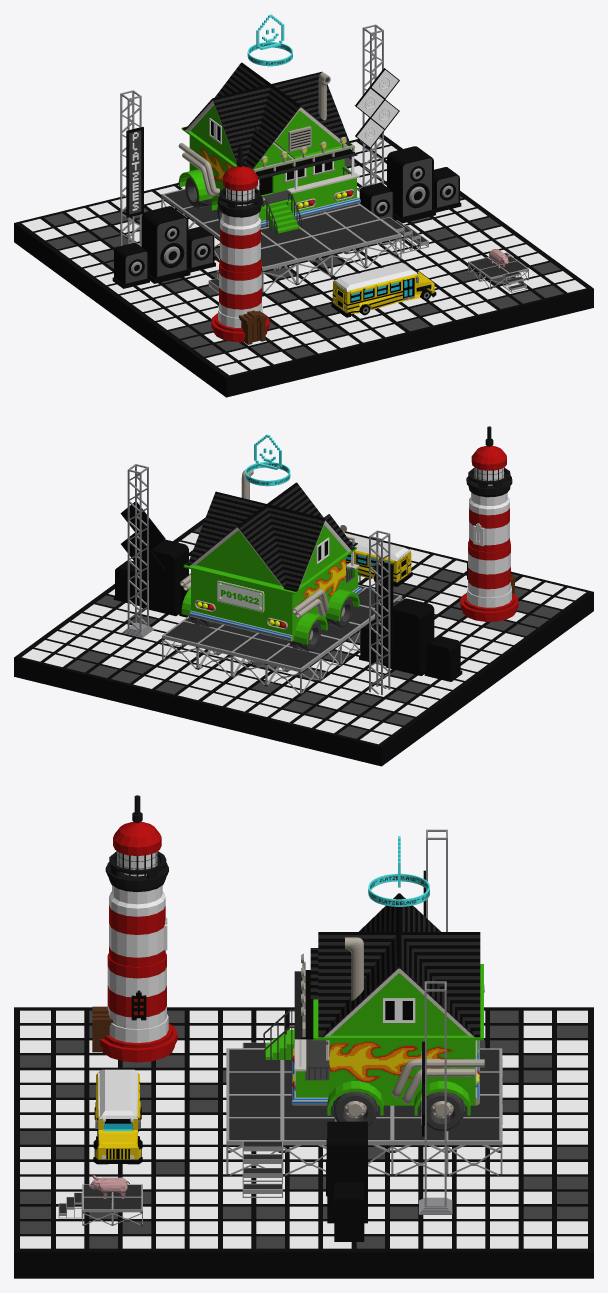
3 views of the same model, one above another, from view 1: azimuth 30°, elevation 25°; view 2: azimuth 150°, elevation 25°; view 3: azimuth 270°, elevation 25° (orthographic). The views are drawn at different scales.
Parts seen in each view (by area): view 1: Cube.008, Cube.1474, OBJRANDOM_LIGHTHOUSE, VEHICLES_SCHOOL_BUS, TYPE_PREMIUM; view 2: Cube.008, Cube.1474, OBJRANDOM_LIGHTHOUSE, VEHICLES_SCHOOL_BUS, TYPE_PREMIUM; view 3: Cube.008, Cube.1474, OBJRANDOM_LIGHTHOUSE, VEHICLES_SCHOOL_BUS, TYPE_PREMIUM.
Boxes of the visible parts, left/top/right/bottom form: Cube.008: left=14, top=24, right=593, bottom=397; Cube.1474: left=178, top=62, right=360, bottom=234; OBJRANDOM_LIGHTHOUSE: left=211, top=146, right=269, bottom=344; VEHICLES_SCHOOL_BUS: left=331, top=263, right=436, bottom=317; TYPE_PREMIUM: left=247, top=14, right=292, bottom=66; Cube.008: left=14, top=464, right=593, bottom=766; Cube.1474: left=180, top=469, right=362, bottom=651; OBJRANDOM_LIGHTHOUSE: left=460, top=426, right=518, bottom=621; VEHICLES_SCHOOL_BUS: left=345, top=533, right=412, bottom=586; TYPE_PREMIUM: left=245, top=434, right=290, bottom=486; Cube.008: left=14, top=829, right=593, bottom=1278; Cube.1474: left=263, top=893, right=484, bottom=1131; OBJRANDOM_LIGHTHOUSE: left=92, top=795, right=177, bottom=1062; VEHICLES_SCHOOL_BUS: left=93, top=1069, right=142, bottom=1164; TYPE_PREMIUM: left=368, top=836, right=429, bottom=906.
Size of the model in its own units: 4000 by 2462 by 4000.
Materials: 49 (4 with a texture image).
